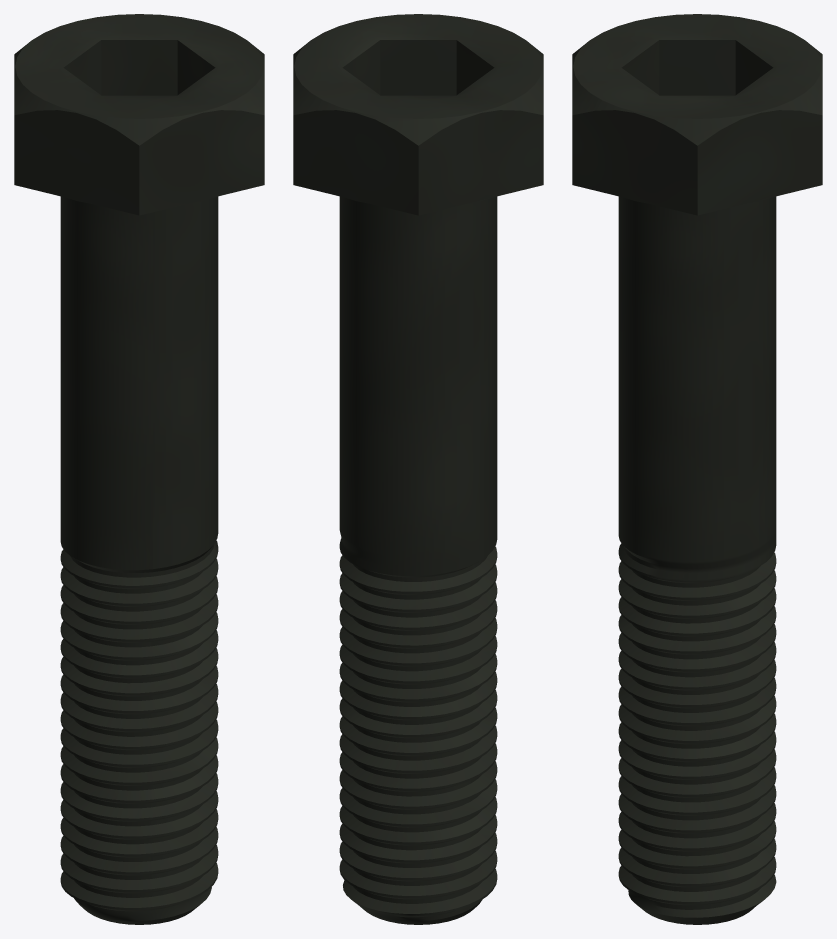
File: hex_bolt.fbx
3 views of the same model, side by side, from view 1: azimuth 30°, elevation 25°; view 2: azimuth 150°, elevation 25°; view 3: azimuth 270°, elevation 25° (orthographic).
Visible parts, largest first — view 1: Hex_Bolt; view 2: Hex_Bolt; view 3: Hex_Bolt.
Boxes of the visible parts, <box> form: Hex_Bolt: <box>14,14,264,924</box>; Hex_Bolt: <box>293,14,543,924</box>; Hex_Bolt: <box>572,14,822,924</box>.
Bounding box in the file's own units: 0.0219 × 0.0699 × 0.019.
Materials: 1 (1 with a texture image).
